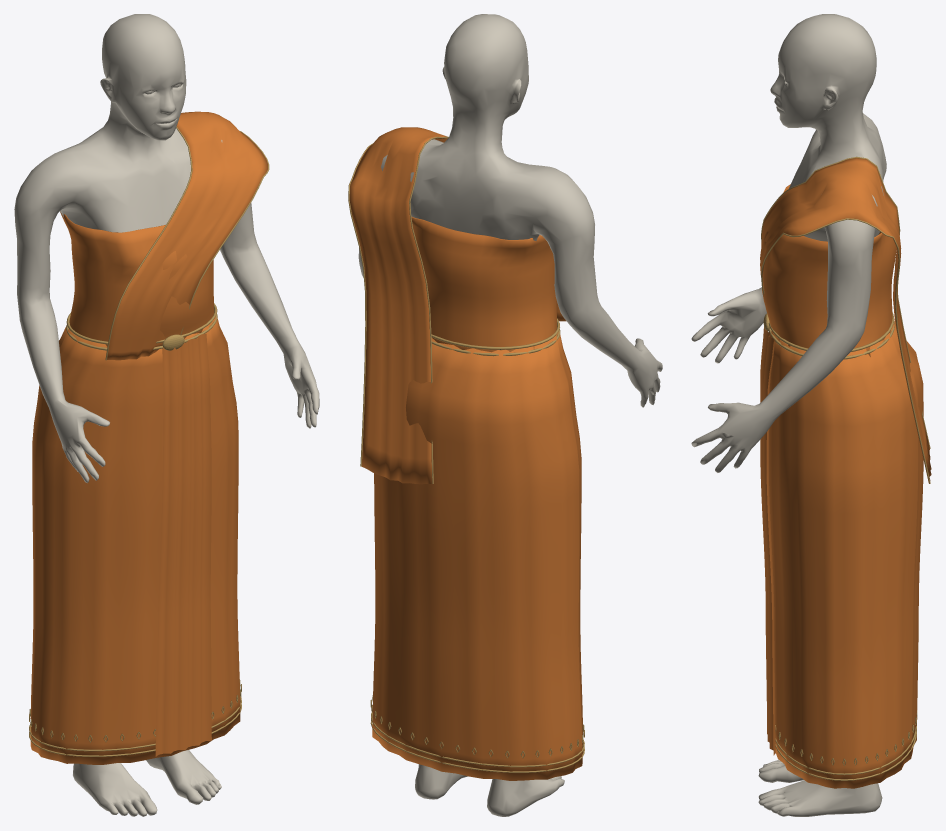
Rendered from fashion-day-v1-normal.glb.
3 views of the same model, side by side, from view 1: azimuth 30°, elevation 25°; view 2: azimuth 150°, elevation 25°; view 3: azimuth 270°, elevation 25° (orthographic).
Visible parts, largest first — view 1: day-fabric, mannequin-ivory, antique-gold; view 2: day-fabric, mannequin-ivory, antique-gold; view 3: day-fabric, mannequin-ivory, antique-gold.
Part boxes in pixels (bbox=[...]): day-fabric: bbox=[30, 111, 267, 764]; mannequin-ivory: bbox=[14, 14, 319, 816]; antique-gold: bbox=[29, 126, 269, 756]; day-fabric: bbox=[349, 127, 583, 780]; mannequin-ivory: bbox=[358, 14, 662, 816]; antique-gold: bbox=[348, 136, 584, 772]; day-fabric: bbox=[760, 158, 931, 788]; mannequin-ivory: bbox=[691, 14, 886, 816]; antique-gold: bbox=[761, 156, 930, 780].
Bounding box in the file's own units: 0.5931 × 1.75 × 0.4911.
